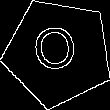O_S: (33, 24, 83, 81)
